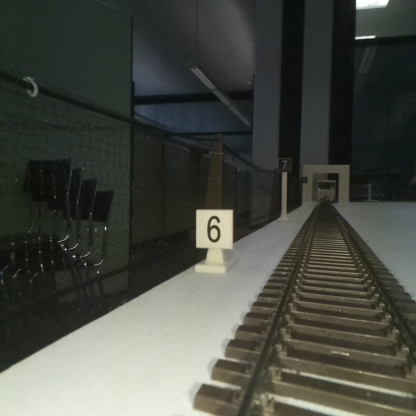black-info-7: (277, 158, 291, 219)
white-stop-6: (196, 209, 232, 270)
